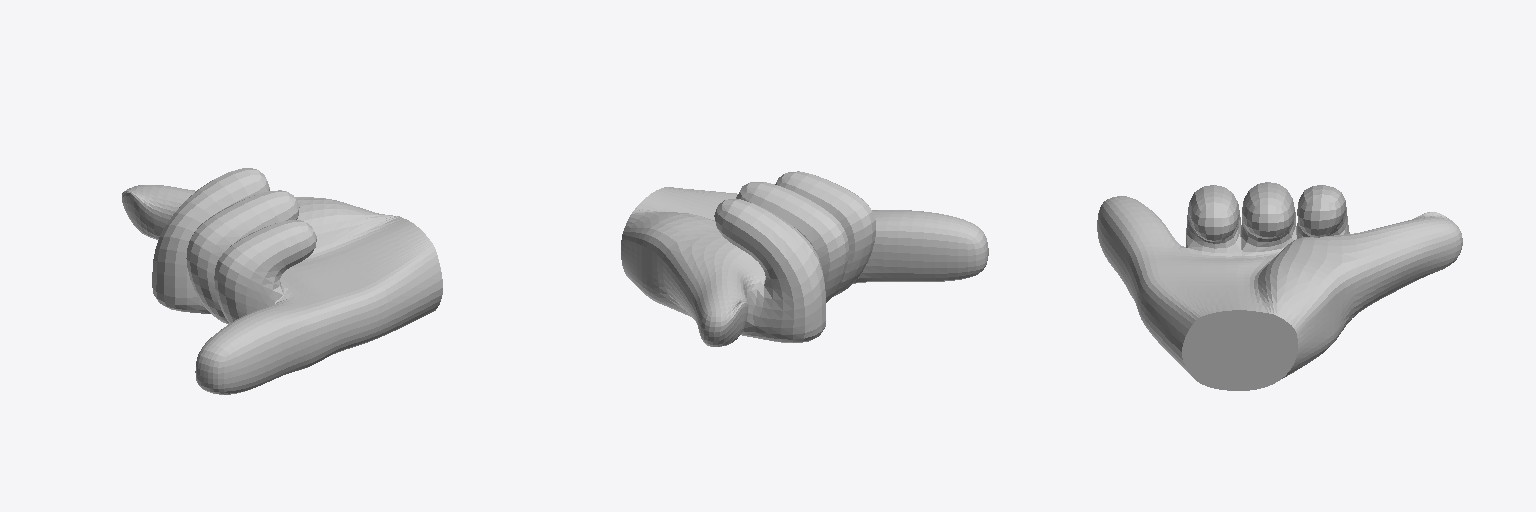
3 views of the same model, side by side, from view 1: azimuth 30°, elevation 25°; view 2: azimuth 150°, elevation 25°; view 3: azimuth 270°, elevation 25° (orthographic).
Parts seen in each view (by area): view 1: Y_Hand; view 2: Y_Hand; view 3: Y_Hand.
Part boxes in pixels (left/top/right/bottom): Y_Hand: left=122, top=168, right=442, bottom=394; Y_Hand: left=621, top=171, right=988, bottom=346; Y_Hand: left=1097, top=182, right=1462, bottom=390.
Size of the model in its own units: 145 by 67.99 by 166.